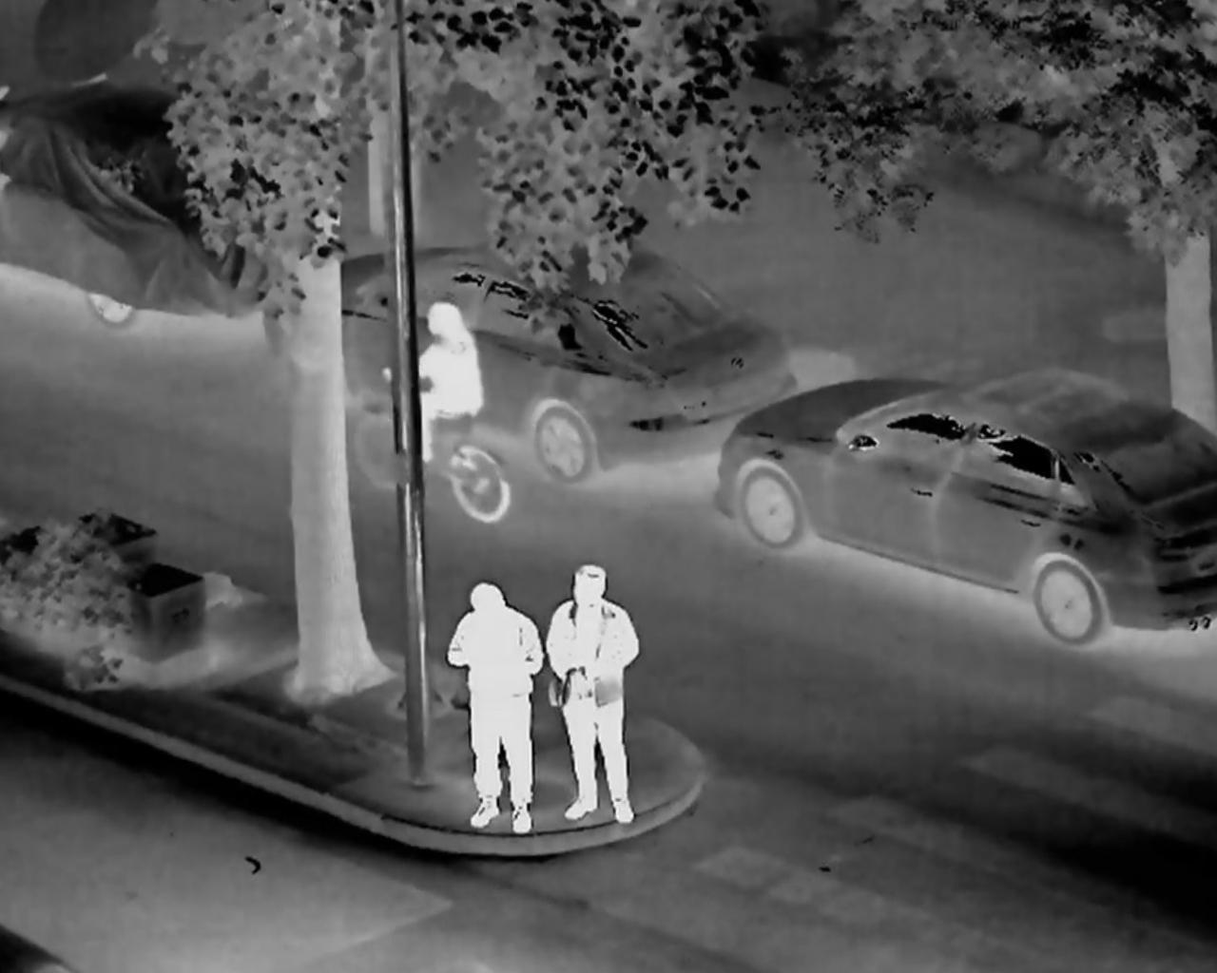person: (537, 563, 679, 827), (441, 557, 561, 839), (378, 280, 490, 481)
